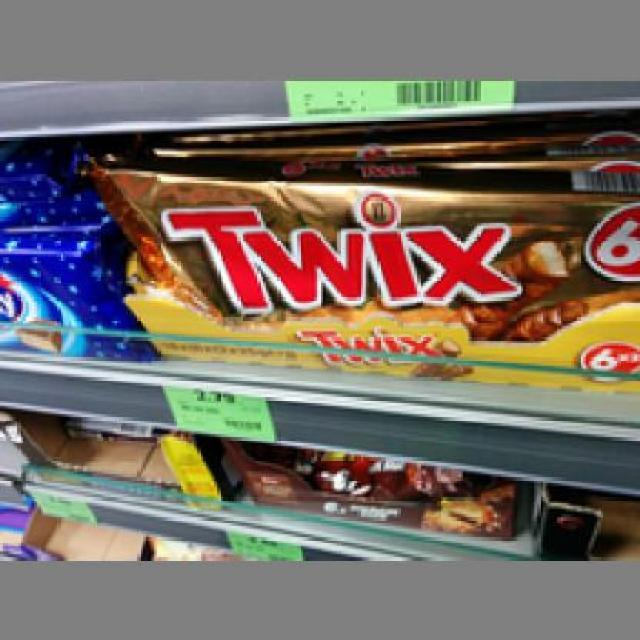Chocolate: (92, 160, 638, 351)
